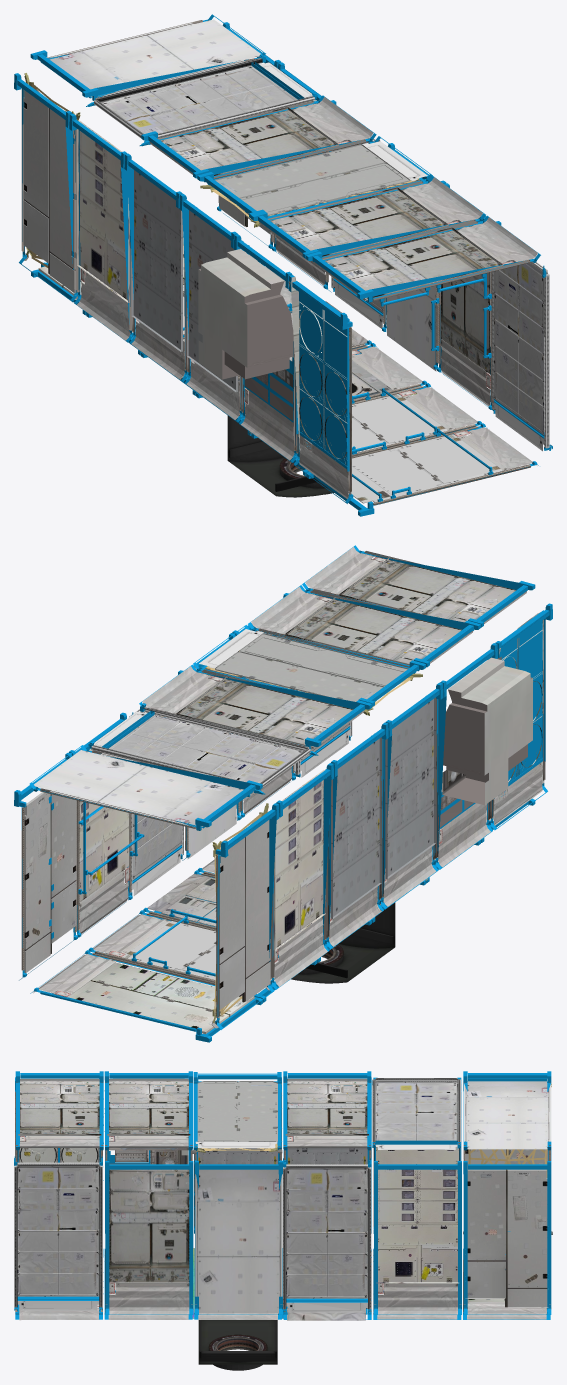
File: US_Lab_Racks.dae
3 renders of one model, top to bottom at view 1: azimuth 30°, elevation 25°; view 2: azimuth 150°, elevation 25°; view 3: azimuth 270°, elevation 25°, orthographic. The views are drawn at different scales.
Parts seen in each view (by area): view 1: node; view 2: node; view 3: node.
Boxes of the visible parts, x1,y1,x2,y2 form: node: (14, 14, 552, 516); node: (14, 545, 552, 1042); node: (14, 1071, 552, 1370).
Bounding box in the file's own units: 3.76 × 4.39 × 8.55.
Materials: 28 (28 with a texture image).
